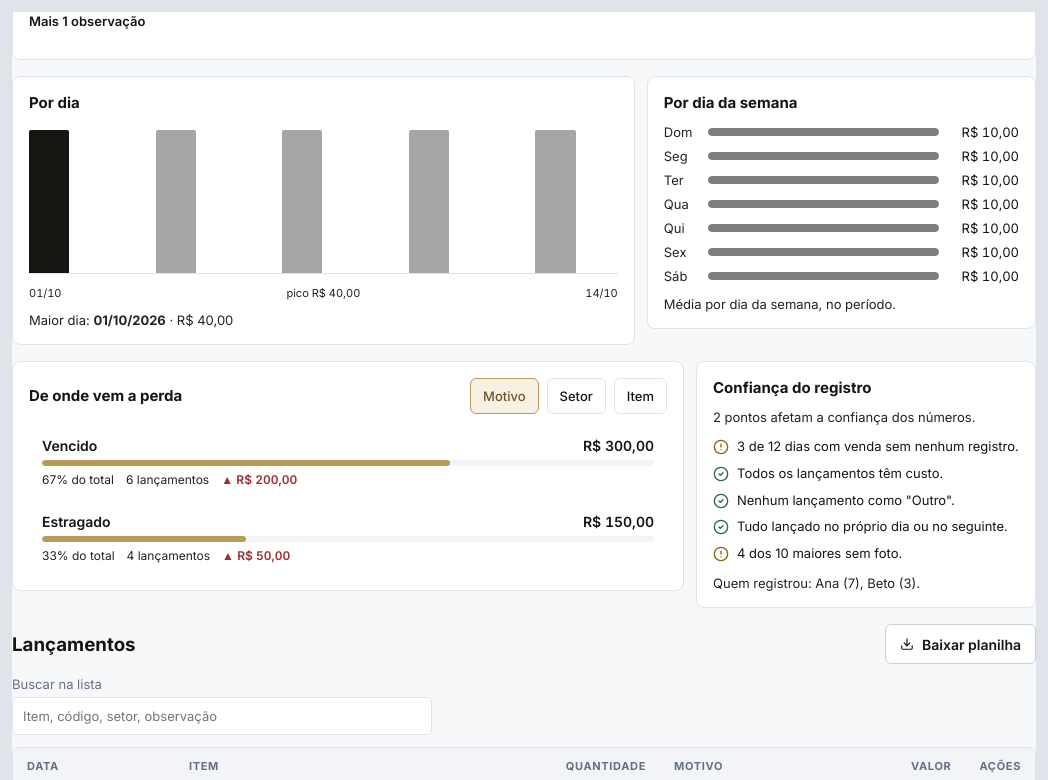
Scenario: Análise: de onde vem a perda › a aba Item mostra em quantos dias o item perde e o motivo principal
The image size is (1048, 780).
(page scrolled)
Click the tab "Item" at (640, 396), box left=614, top=378, right=667, bottom=414
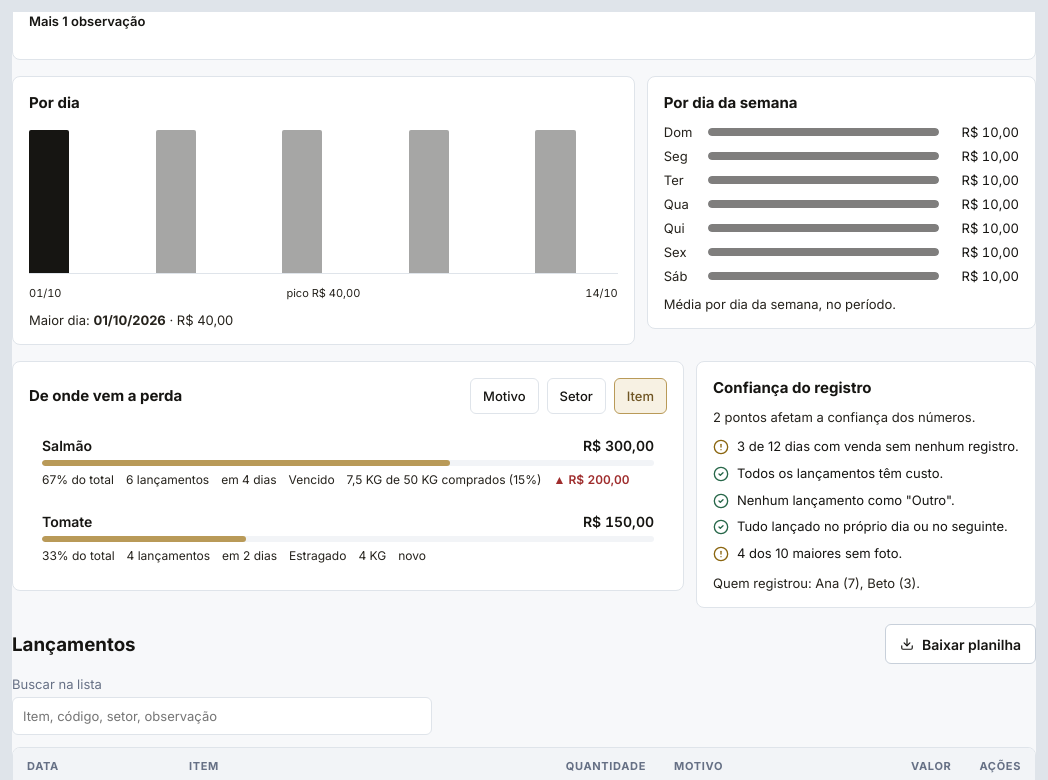
Now the text "em 4 dias" is shown, box left=221, top=472, right=277, bottom=487
Now the text "7,5 KG de 50 KG comprados (15%)" is shown, box left=347, top=472, right=541, bottom=487
